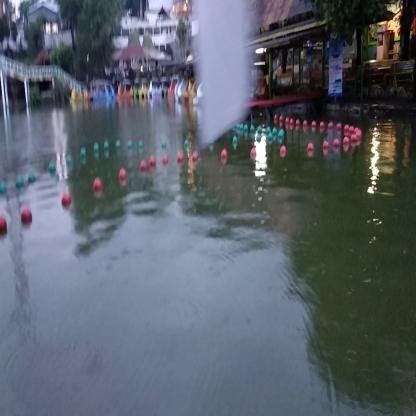green_buoy: (0, 181, 8, 196), (17, 174, 24, 190), (66, 155, 74, 167), (30, 170, 36, 185), (80, 149, 86, 160), (278, 133, 284, 143), (231, 138, 237, 148), (184, 138, 190, 148), (161, 140, 167, 150), (94, 144, 100, 154), (49, 164, 55, 174), (268, 134, 273, 144), (115, 141, 121, 149), (104, 141, 108, 153), (251, 124, 255, 134), (266, 127, 271, 135), (257, 127, 262, 134), (273, 128, 277, 136), (257, 135, 261, 142)
red_buoy: (20, 207, 34, 221), (61, 192, 72, 206), (0, 216, 7, 238), (119, 170, 127, 186), (94, 180, 102, 196), (249, 147, 256, 162), (306, 143, 314, 156), (354, 133, 362, 145), (177, 152, 184, 165), (149, 158, 157, 169), (141, 160, 147, 174), (280, 145, 286, 158), (221, 148, 227, 161), (162, 155, 168, 168), (350, 137, 357, 148), (345, 125, 351, 136), (333, 139, 339, 150), (192, 152, 197, 165), (344, 138, 350, 148), (323, 140, 328, 152), (320, 122, 325, 133), (328, 122, 334, 131), (311, 121, 316, 131), (303, 119, 307, 130), (336, 124, 342, 131), (296, 119, 300, 128), (280, 116, 284, 124), (290, 119, 294, 126), (286, 118, 290, 124)
